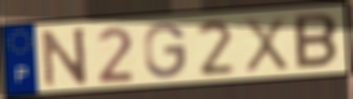2: (93, 23, 137, 86), (193, 18, 238, 78)
B: (293, 11, 339, 71)
G: (142, 21, 188, 81)
N: (39, 25, 90, 89)
X: (242, 14, 291, 75)
